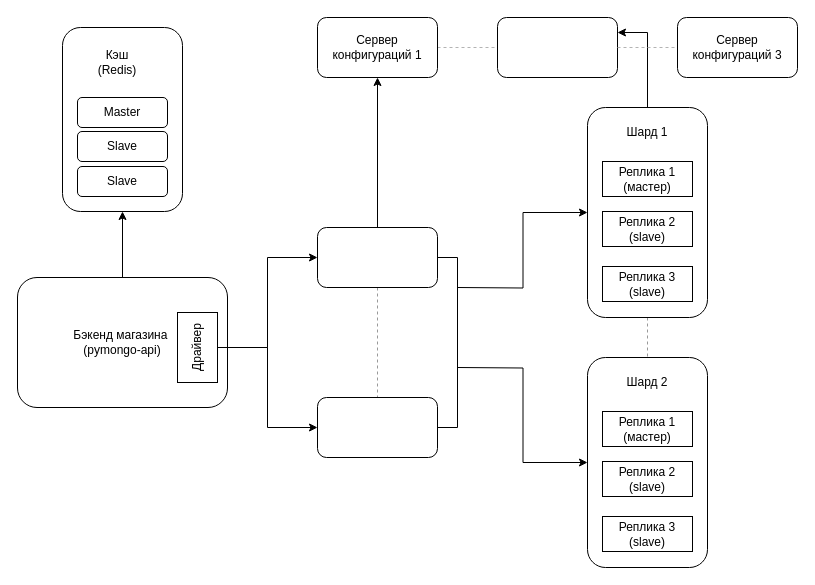
Some shapes in this 815 by 585 pixel diagram are drawn without their labels. The shapes that lost their labels are listed below. From the top down, each one's centre as x and y in pixels, then its label:
At (557,47): "Сервер конфигураций 2".
At (377,257): "Роутер 1".
At (377,427): "Роутер 2".
